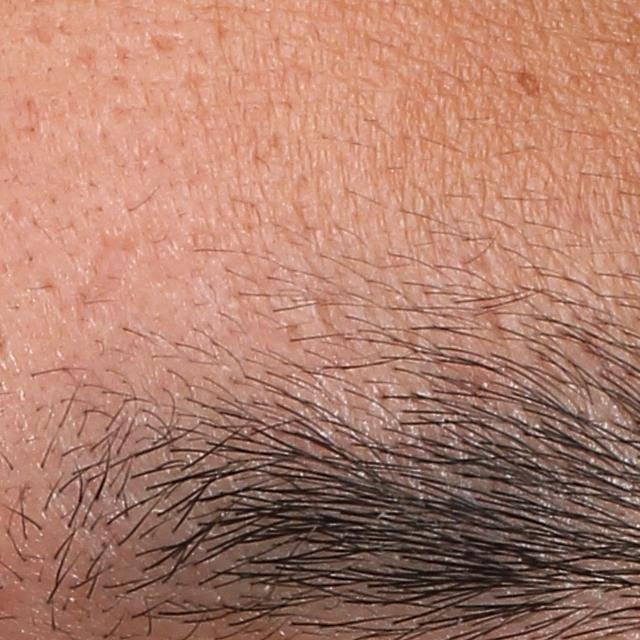atrophic_scar: (76, 230, 145, 332), (148, 29, 185, 59), (28, 12, 60, 46)
nevus: (507, 61, 548, 102)
